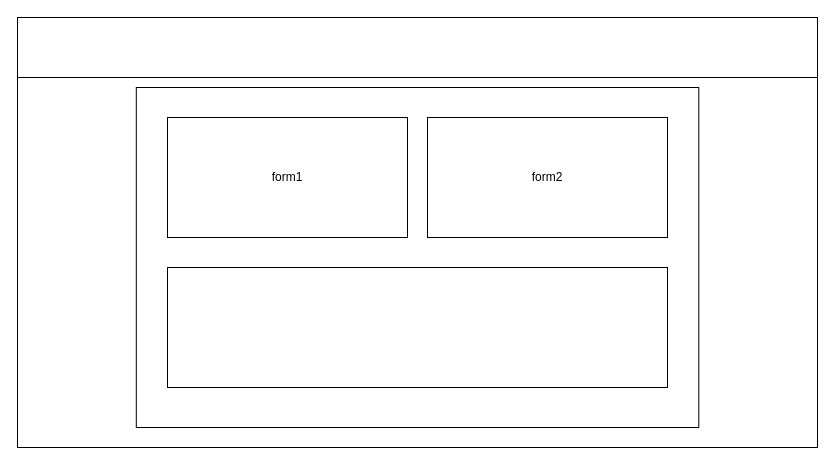
The diagram is 835 pixels wide and 465 high, and some of its shapes have lost their labels. The centre of each missing label's shape, as x and y in pixels:
"form3" goes at point (417, 327).
"Navigacijos elementas" goes at point (417, 47).
